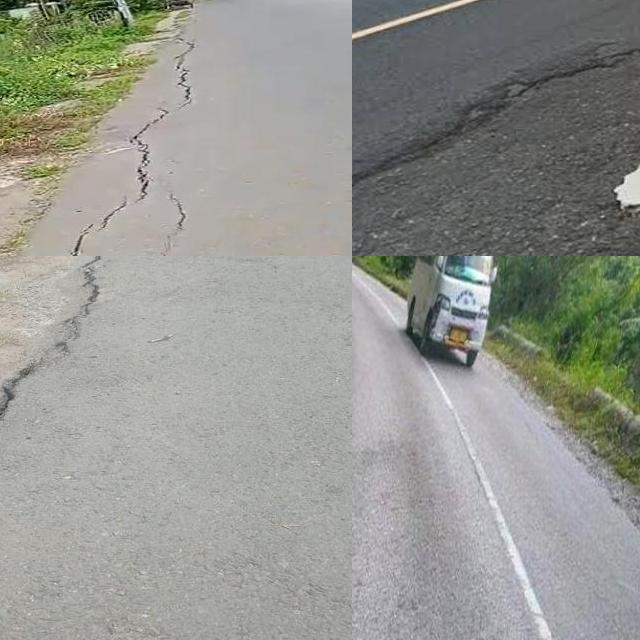Memanjang: (0, 256, 158, 558), (37, 33, 235, 256)
